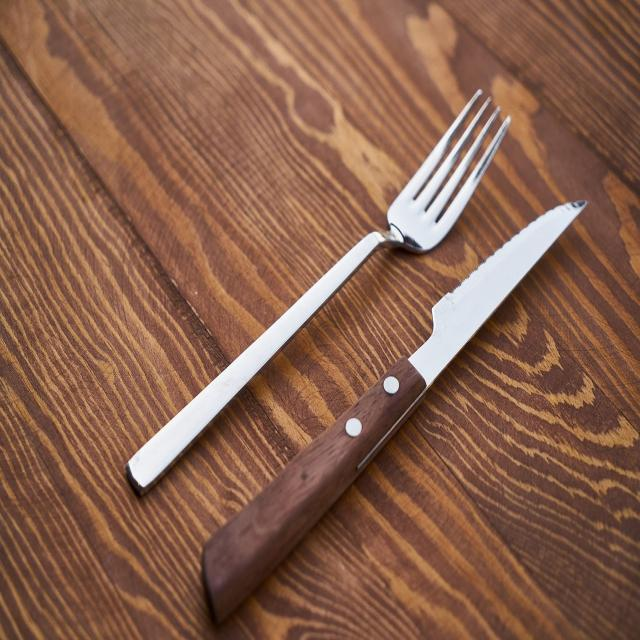knife: (206, 198, 592, 624)
